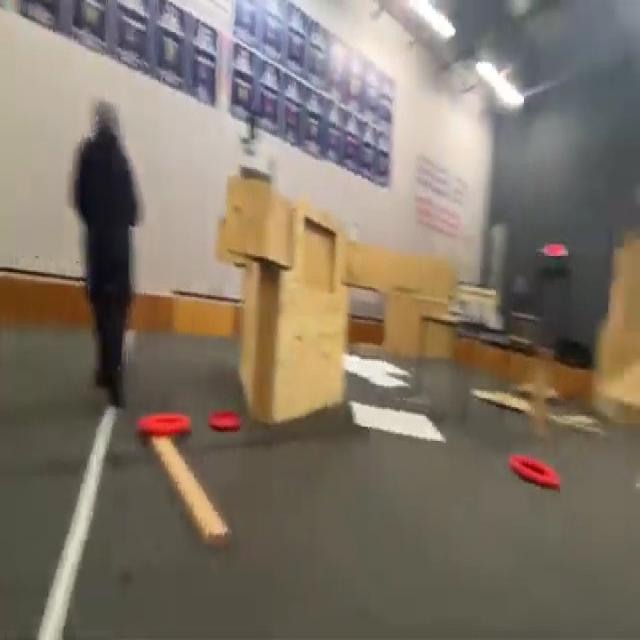note: (506, 453, 562, 489), (132, 412, 193, 438)
